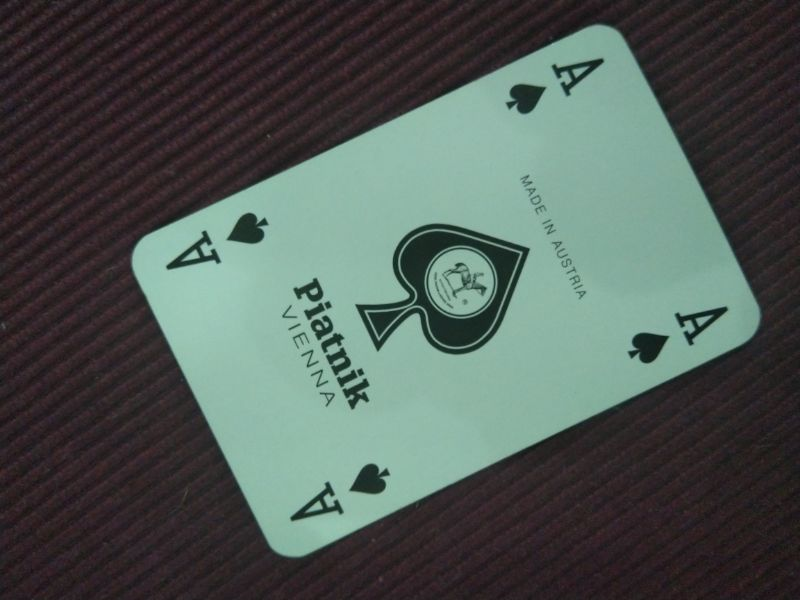As: (162, 209, 274, 279), (621, 301, 734, 368), (286, 458, 394, 525), (503, 50, 607, 119)
